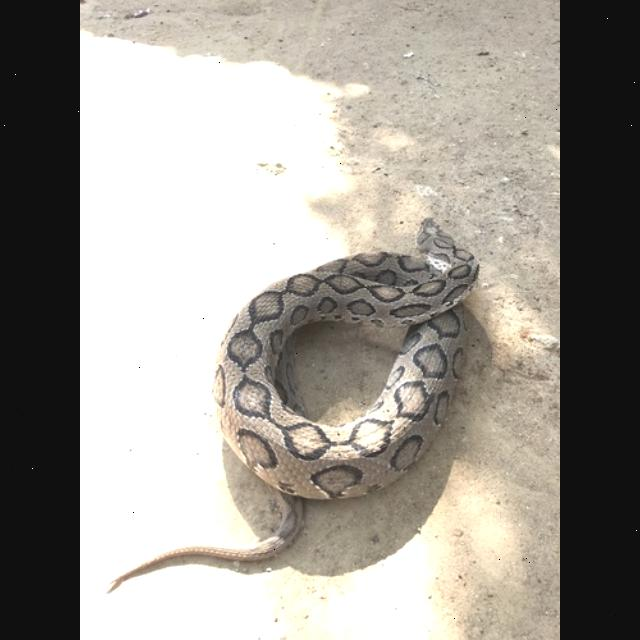snake: (102, 216, 490, 594)
